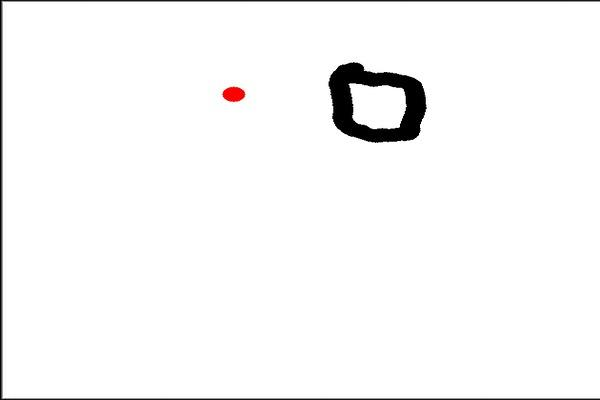O: (313, 47, 430, 153)
